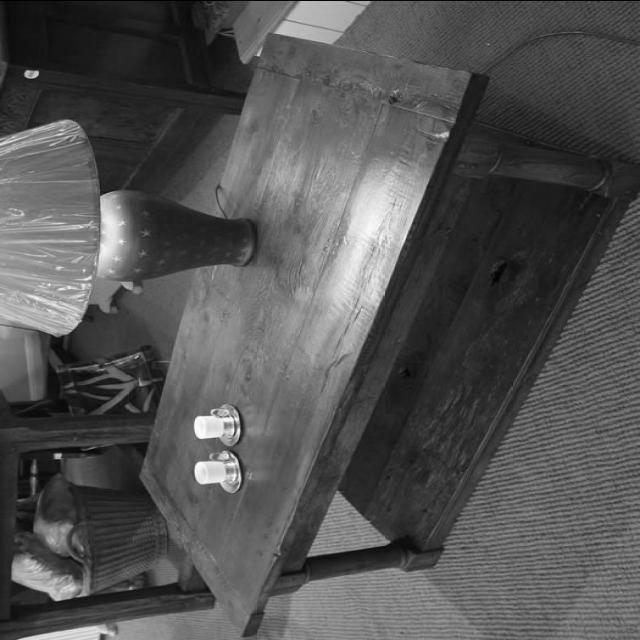table: (135, 34, 639, 634)
